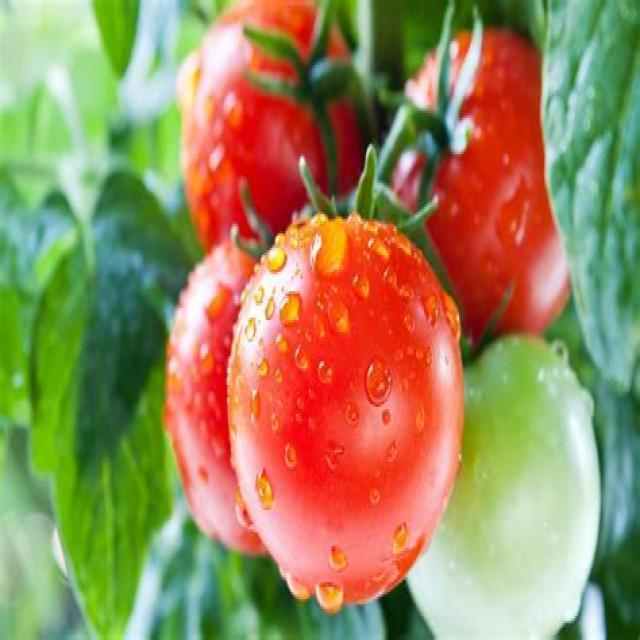Tomato: (227, 213, 465, 615), (389, 23, 571, 357), (176, 0, 364, 257), (164, 239, 268, 557)
